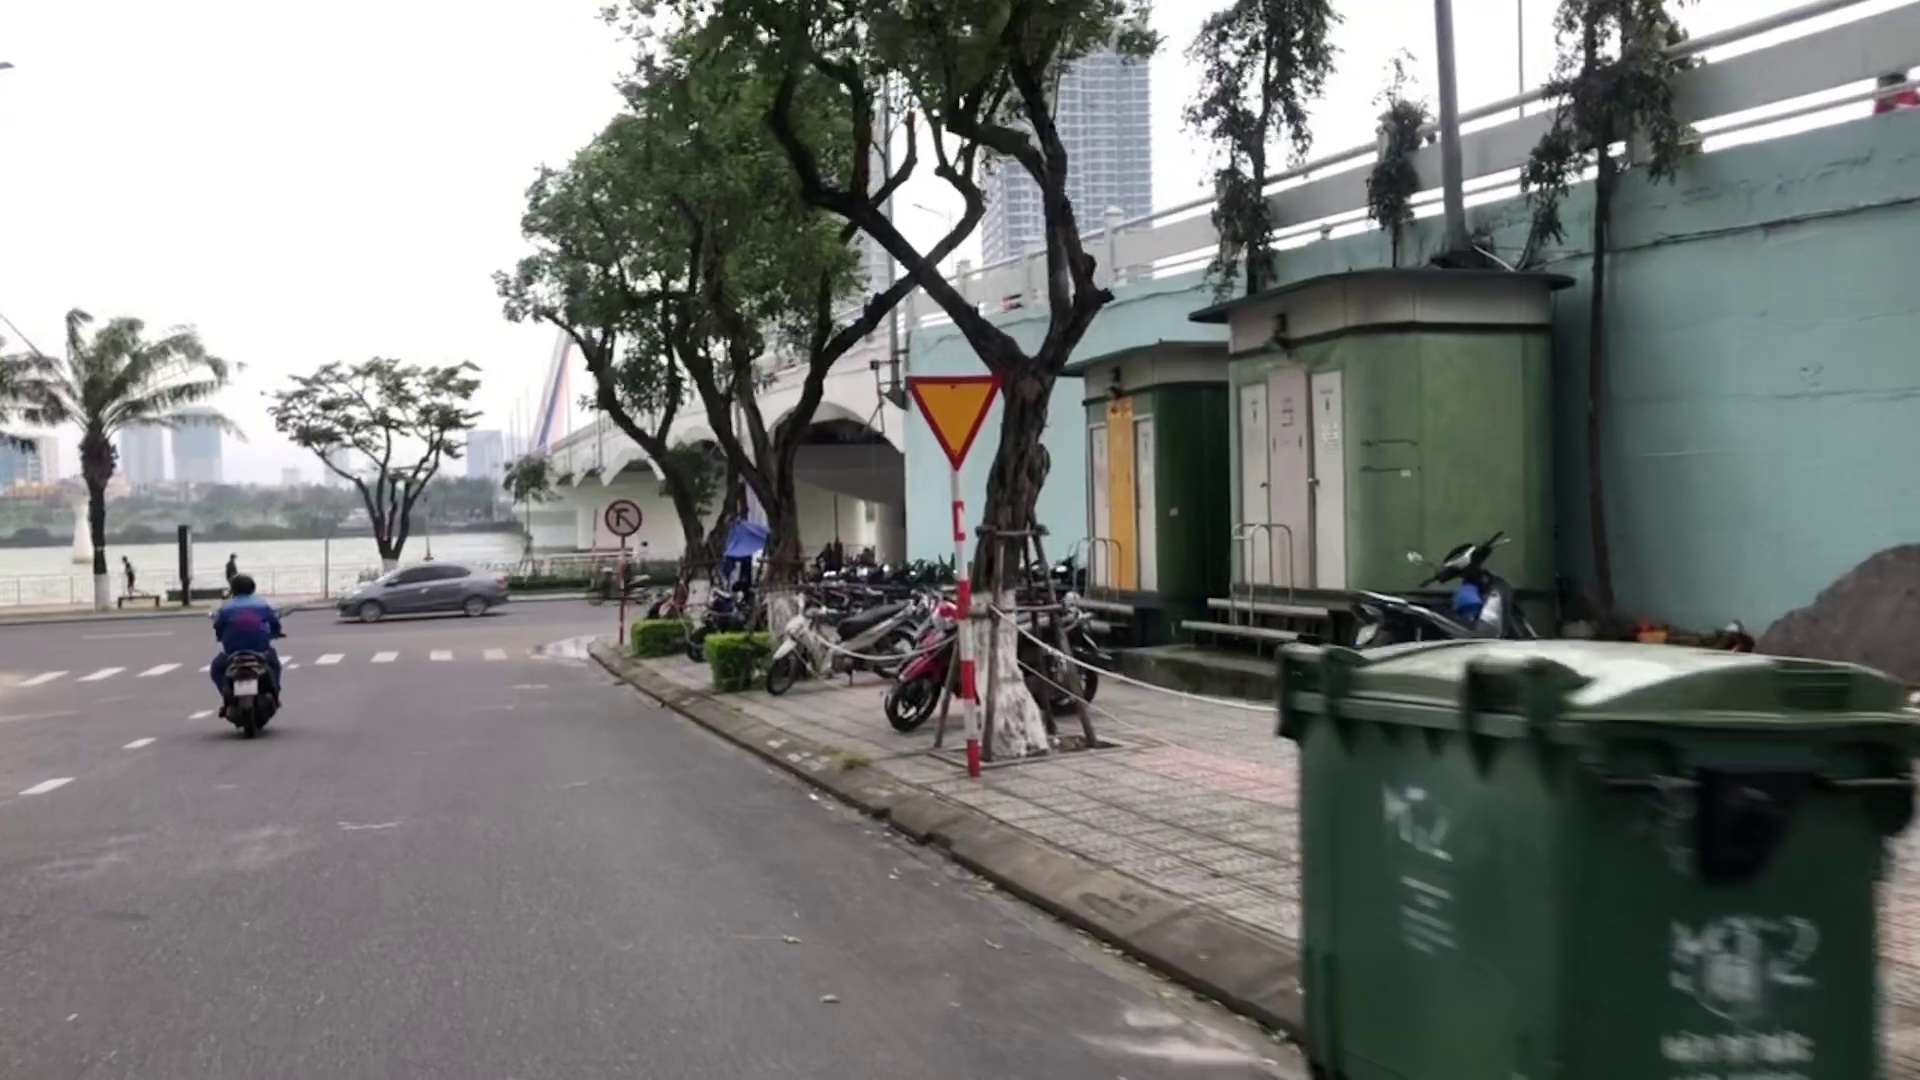Bien khac: (899, 368, 1000, 469), (603, 498, 642, 537)
